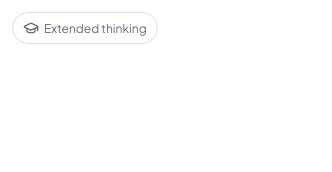
Test: ThinkingToggle › toggles the extendedThinking store boolean
Later steps or results of the test are not shown.
Click the button "Extended thinking": (85, 28) [12,12,158,44]
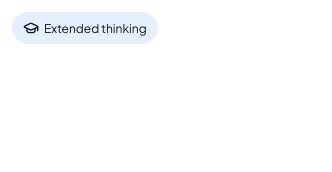
Expected: the button "Extended thinking" is pressed, [12,12,158,44]
Expected: the button "Extended thinking" has class "thinking-toggle--on", [12,12,158,44]
